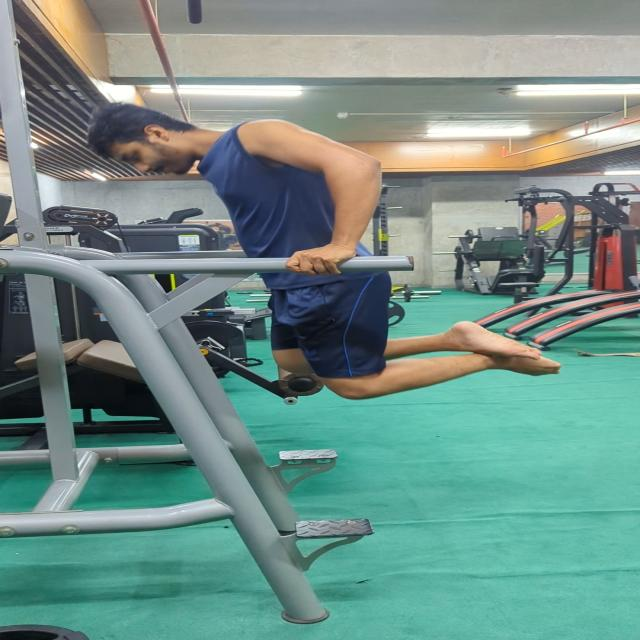Normal_Dips: (74, 98, 575, 407)
